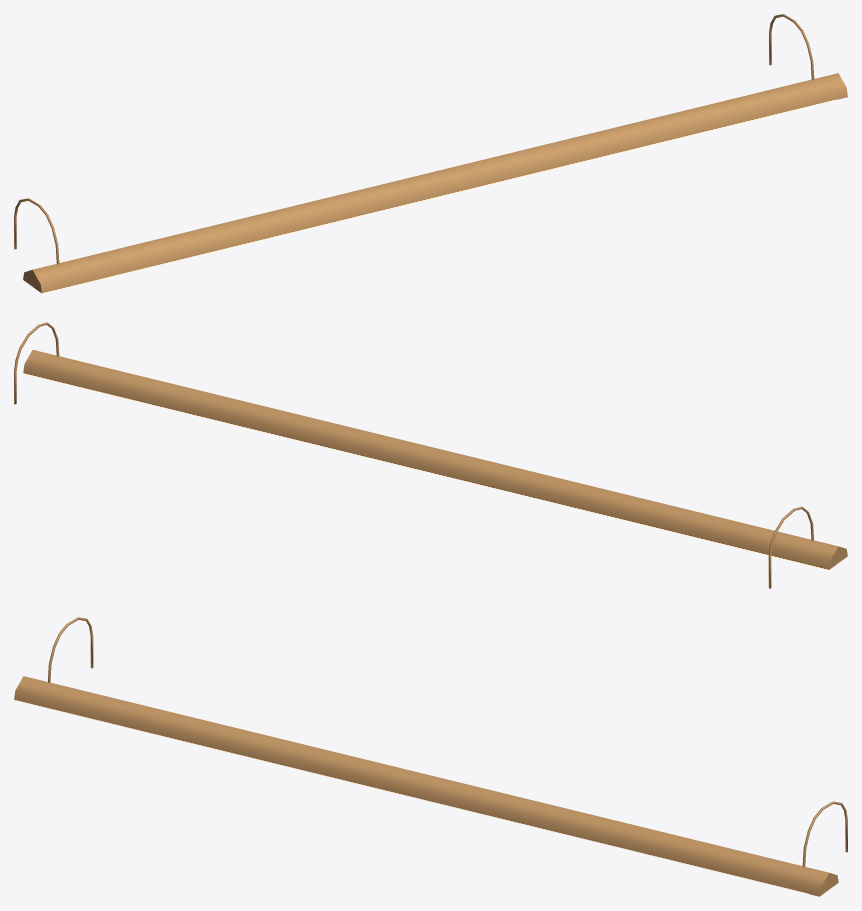
Rendered from CdC_LampStripLight.fbx.
3 views of the same model, one above another, from view 1: azimuth 30°, elevation 25°; view 2: azimuth 150°, elevation 25°; view 3: azimuth 330°, elevation 25° (orthographic).
Visible parts, largest first — view 1: CdC_LampStripLight; view 2: CdC_LampStripLight; view 3: CdC_LampStripLight.
Part boxes in pixels (x1,y1,x2,y2): CdC_LampStripLight: (14,14,847,293); CdC_LampStripLight: (14,322,847,588); CdC_LampStripLight: (14,617,847,896).
Size of the model in its own units: 1.32 by 0.0976 by 0.1501.
